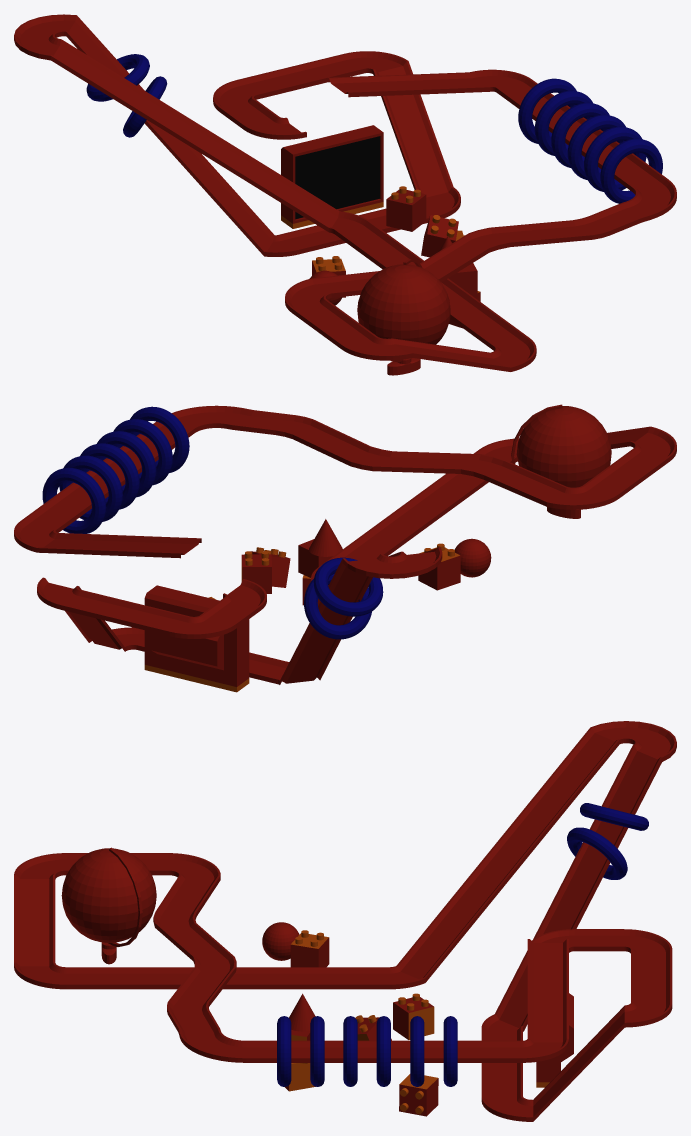
Rendered from track3-3.obj.
3 views of the same model, one above another, from view 1: azimuth 30°, elevation 25°; view 2: azimuth 150°, elevation 25°; view 3: azimuth 270°, elevation 25° (orthographic).
Visible parts, largest first — view 1: Plane.001; view 2: Plane.001; view 3: Plane.001.
Part boxes in pixels (left/top/right/bottom): Plane.001: left=14, top=14, right=676, bottom=375; Plane.001: left=14, top=404, right=676, bottom=692; Plane.001: left=14, top=721, right=676, bottom=1121.
Size of the model in its own units: 1078 by 486 by 1292.
